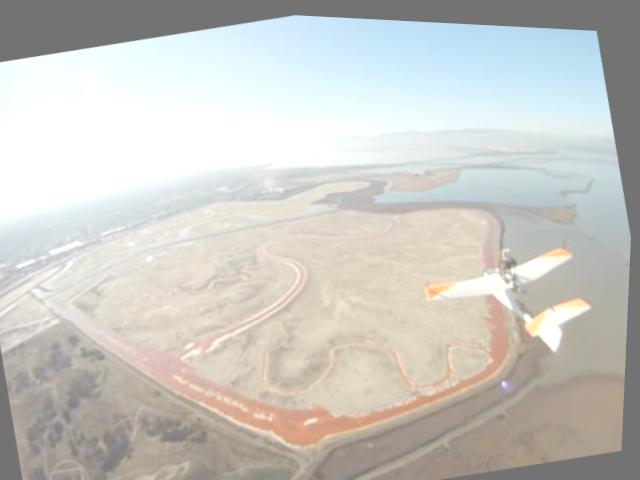uav: (412, 216, 612, 380)
